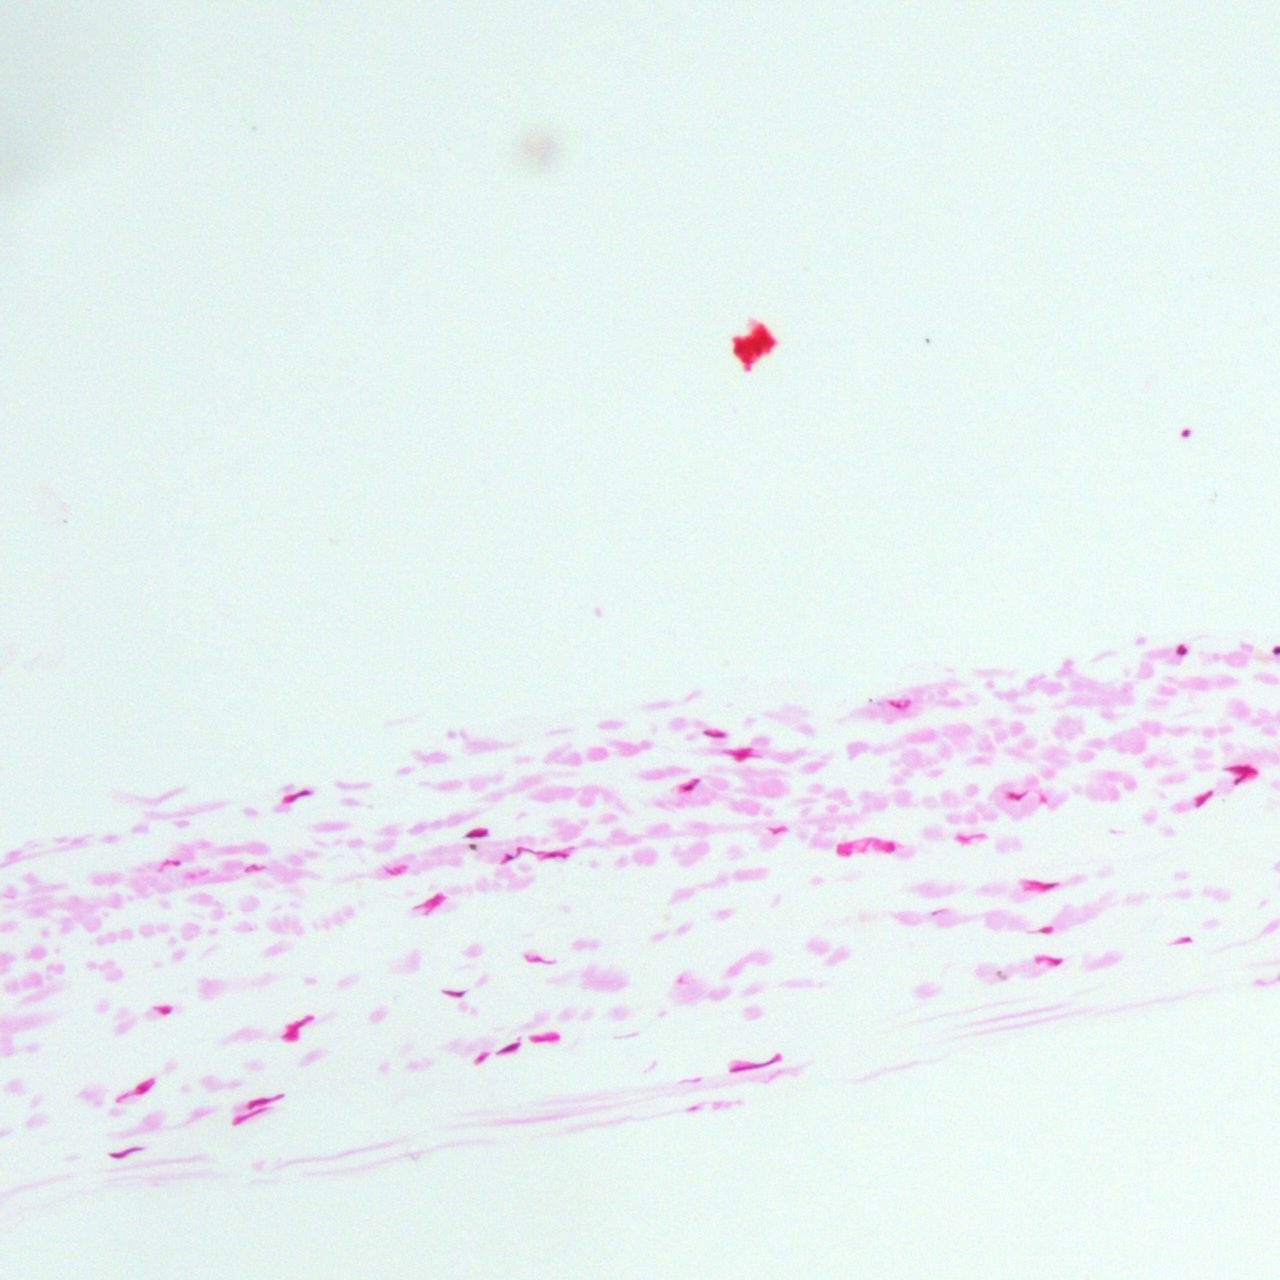dust: (996, 971, 1008, 980), (467, 844, 478, 851), (924, 336, 931, 343), (869, 697, 872, 701)
nucleus-FG: (113, 1075, 159, 1104), (281, 1012, 316, 1039), (726, 1057, 779, 1075), (230, 1103, 268, 1126), (246, 1091, 285, 1110), (109, 1143, 147, 1160), (424, 890, 445, 915), (495, 1040, 524, 1057), (1190, 787, 1214, 806), (281, 788, 311, 804), (953, 831, 989, 843), (414, 894, 441, 908), (1223, 765, 1260, 775), (1024, 879, 1058, 888), (1033, 954, 1064, 964), (683, 776, 700, 794), (1170, 935, 1193, 947), (1006, 790, 1028, 799), (525, 956, 554, 964), (726, 751, 761, 757), (1234, 772, 1248, 787), (442, 989, 465, 998), (542, 852, 568, 859), (680, 1076, 702, 1084), (533, 1035, 559, 1042), (154, 1005, 172, 1014), (464, 829, 489, 836), (513, 847, 537, 855), (771, 824, 787, 835), (158, 859, 181, 866), (387, 866, 406, 874), (881, 842, 896, 852), (243, 864, 267, 870), (703, 731, 726, 737), (499, 855, 515, 863), (888, 700, 910, 706), (1039, 926, 1053, 934), (1175, 649, 1189, 656), (476, 1055, 485, 1062)
